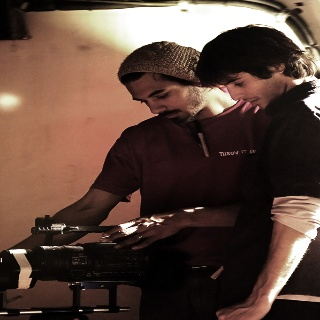rifle: (2, 214, 189, 295)
